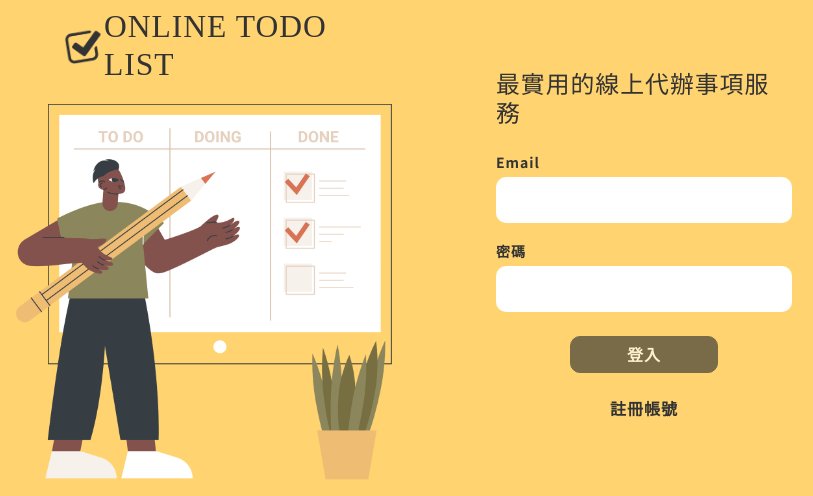
Test: Login Page › Interactions › 當重新輸入email後，清除錯誤訊息
Type "hsuifang@gmail.com" into the field labelled "Email".
click(644, 200); type("hsuifang@gmail.com")  # box [496, 177, 792, 223]
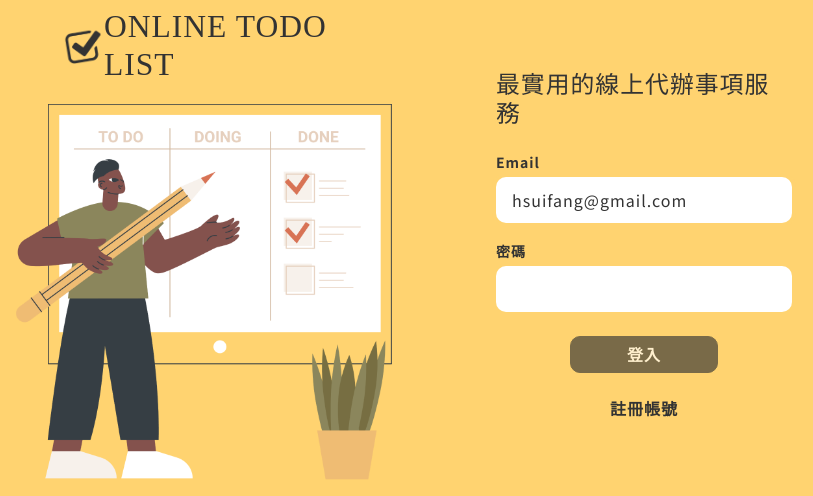
Type "asdfasdf123456" into the password field labelled "密碼".
click(644, 289); type("asdfasdf123456")  # box [496, 266, 792, 312]
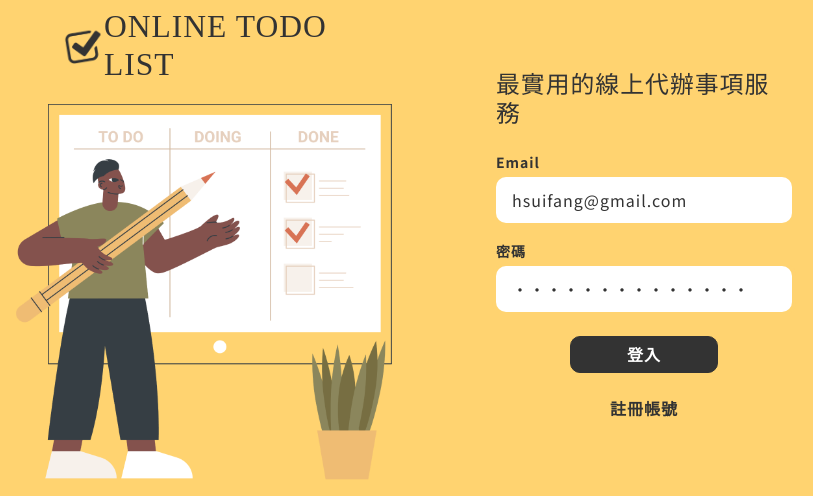
Click the button "登入".
click(644, 354)  # box [570, 336, 718, 373]
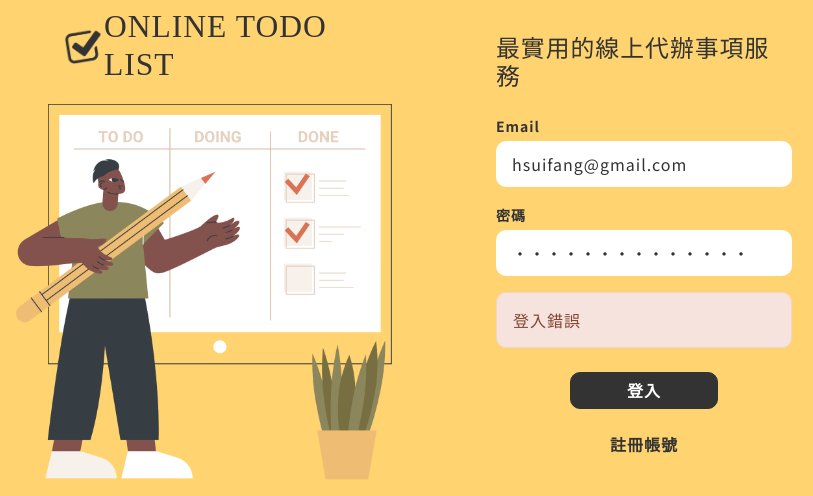
Check: the text "登入錯誤" is shown, box [513, 308, 581, 332]
Type "asdf@gmail.com" into the field labelled "Email".
click(644, 164); type("asdf@gmail.com")  # box [496, 141, 792, 187]
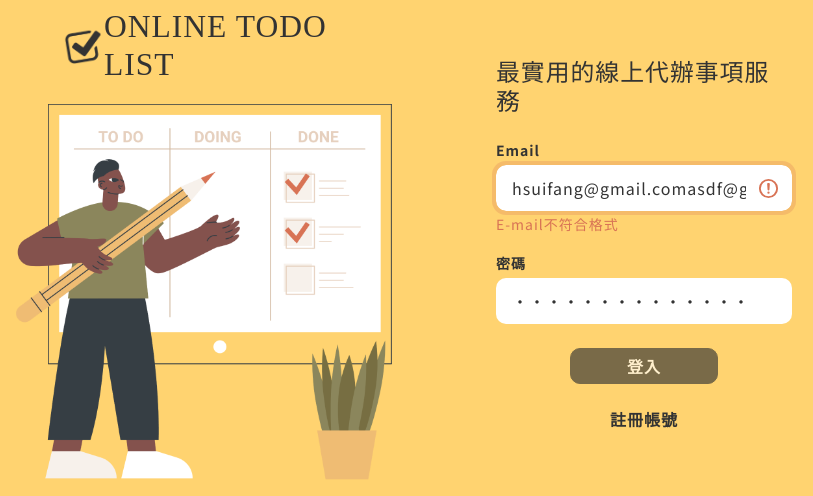
Check: the text "登入錯誤" is gone
